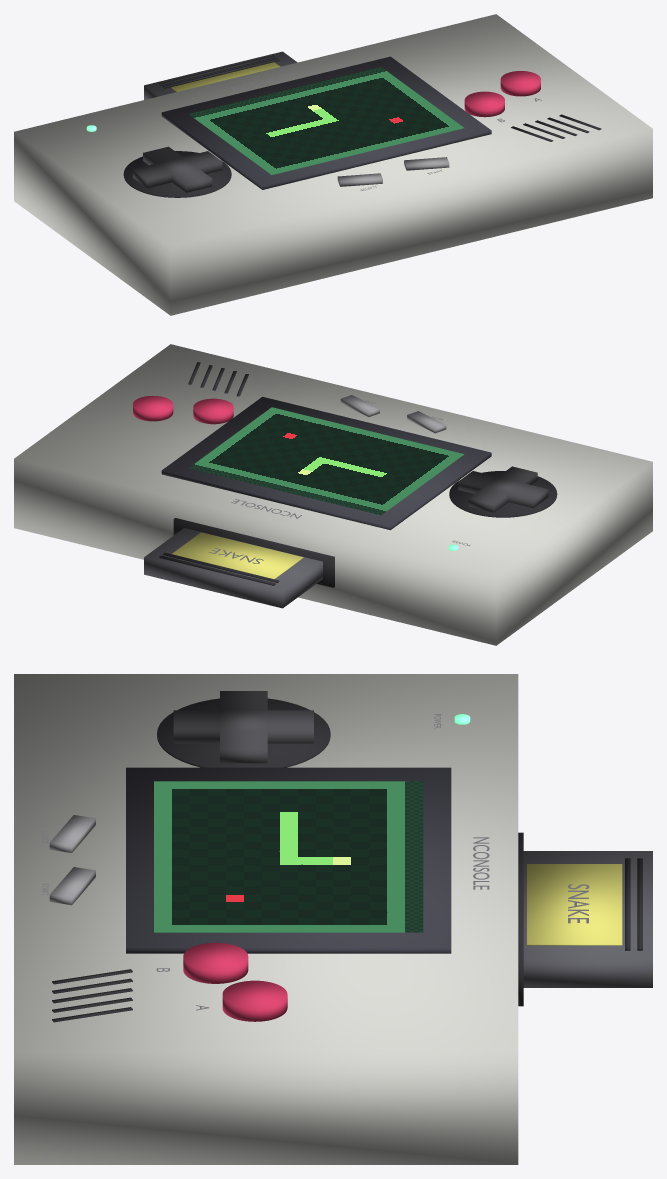
The model's file is NConsole.glb.
3 renders of one model, top to bottom at view 1: azimuth 30°, elevation 25°; view 2: azimuth 150°, elevation 25°; view 3: azimuth 270°, elevation 25°, orthographic. The views are drawn at different scales.
Visible parts, largest first — view 1: Shell_Body, Display_Screen, Display_Bezel, DPad_Cross, DPad_Base, Cartridge_Shell, Button_B, Button_A, Cartridge_Label, Menu_Select, Menu_Start; view 2: Shell_Body, Display_Screen, Display_Bezel, Cartridge_Shell, Cartridge_Label, DPad_Cross, Shell_CartSlot, DPad_Base, Button_B, Button_A, Menu_Select, Menu_Start; view 3: Shell_Body, Display_Screen, Display_Bezel, Cartridge_Shell, Cartridge_Label, DPad_Cross, DPad_Base, Button_A, Button_B, Menu_Start, Menu_Select, Shell_CartSlot.
Part boxes in pixels (x1,y1,x2,y2): Shell_Body: [14, 14, 652, 315]; Display_Screen: [188, 67, 464, 174]; Display_Bezel: [161, 56, 491, 189]; DPad_Cross: [132, 146, 222, 192]; DPad_Base: [123, 151, 231, 197]; Cartridge_Shell: [144, 51, 297, 99]; Button_B: [464, 91, 504, 117]; Button_A: [500, 71, 540, 96]; Cartridge_Label: [171, 62, 280, 91]; Menu_Select: [337, 173, 382, 186]; Menu_Start: [404, 157, 449, 170]; Shell_Body: [14, 344, 652, 645]; Display_Screen: [189, 407, 464, 515]; Display_Bezel: [161, 396, 491, 530]; Cartridge_Shell: [144, 528, 322, 608]; Cartridge_Label: [172, 532, 303, 579]; DPad_Cross: [458, 466, 548, 512]; Shell_CartSlot: [173, 518, 334, 587]; DPad_Base: [449, 471, 557, 517]; Button_B: [193, 398, 233, 424]; Button_A: [133, 396, 173, 421]; Menu_Select: [407, 411, 446, 433]; Menu_Start: [340, 395, 379, 416]; Shell_Body: [14, 674, 518, 1164]; Display_Screen: [154, 781, 423, 932]; Display_Bezel: [126, 767, 451, 953]; Cartridge_Shell: [523, 851, 652, 987]; Cartridge_Label: [527, 864, 622, 945]; DPad_Cross: [173, 691, 313, 763]; DPad_Base: [157, 698, 330, 767]; Button_A: [222, 980, 287, 1021]; Button_B: [183, 942, 248, 983]; Menu_Start: [49, 867, 95, 905]; Menu_Select: [49, 815, 95, 852]; Shell_CartSlot: [518, 832, 523, 1006].
Size of the model in its own units: 16 by 2.5 by 11.4.
Materials: 12 (1 with a texture image).
